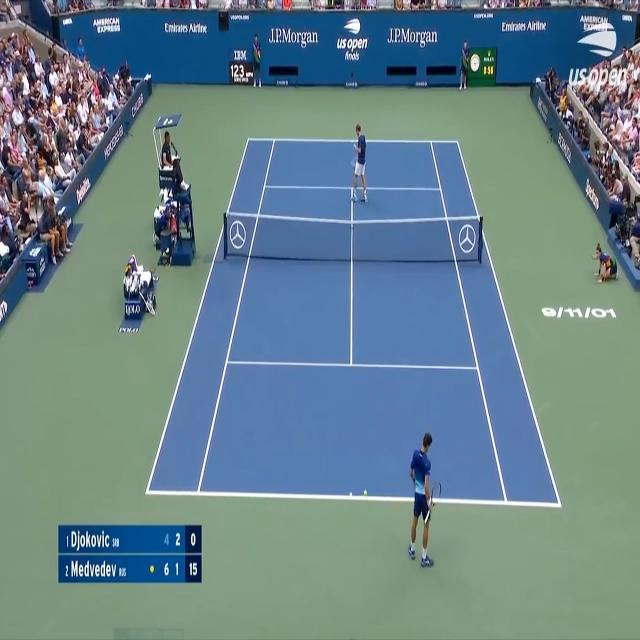Emirates: (164, 21, 188, 34), (501, 20, 526, 32)
